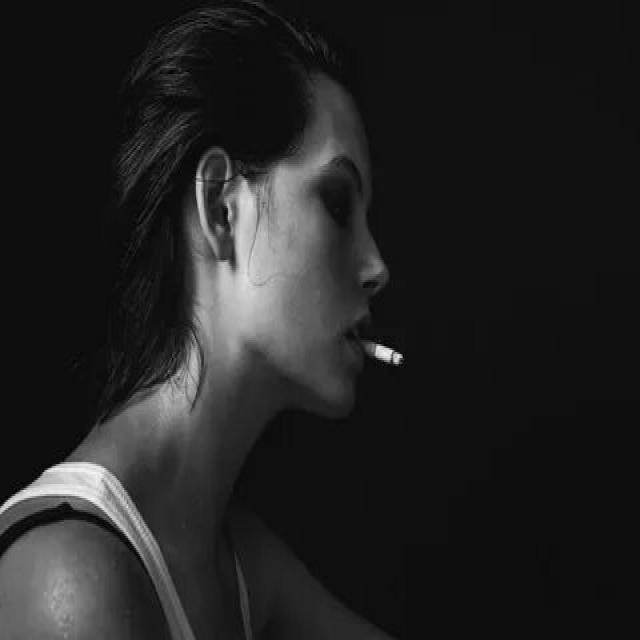cigarette: (351, 326, 408, 380)
